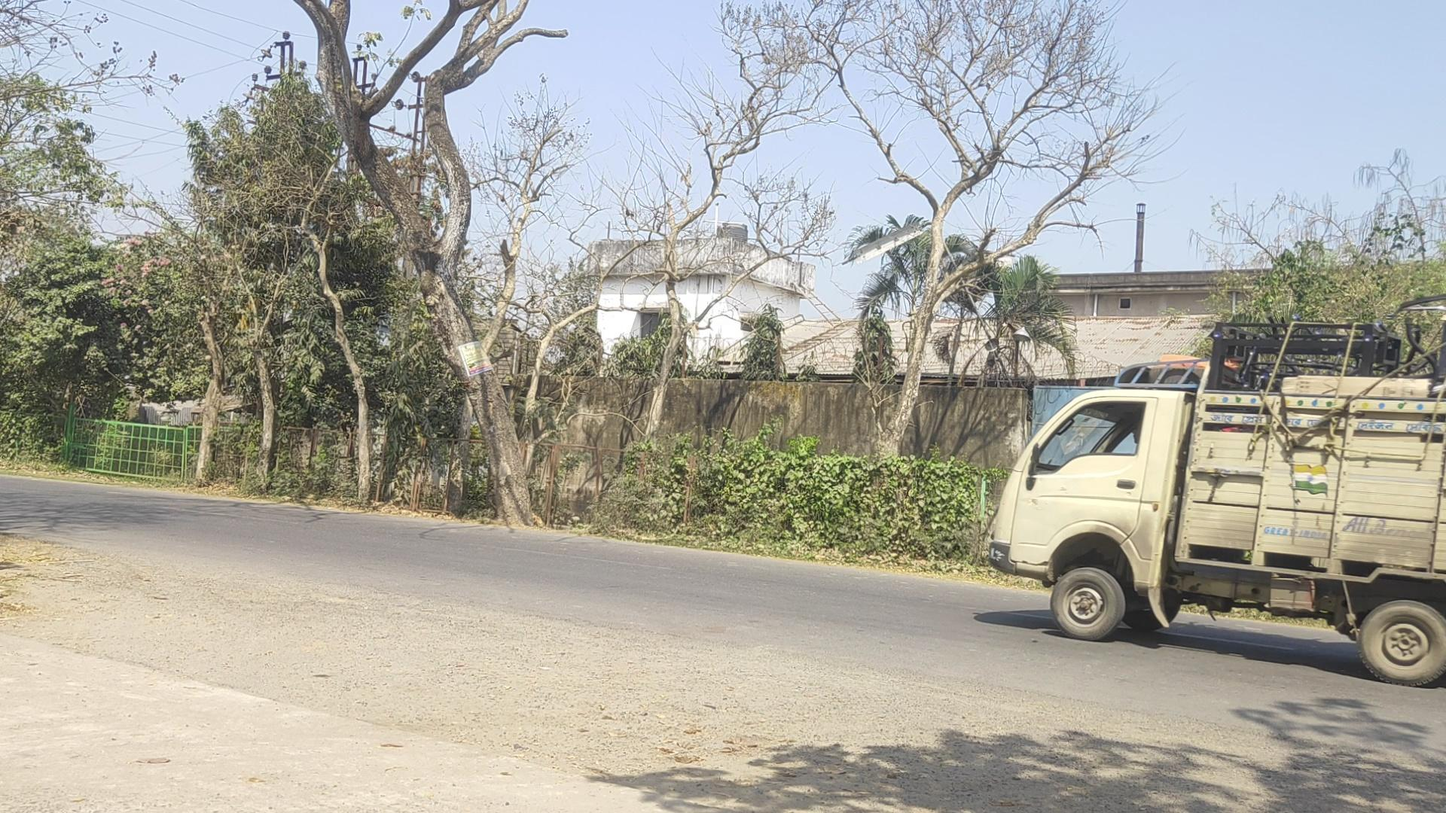van: (990, 294, 1446, 687)
